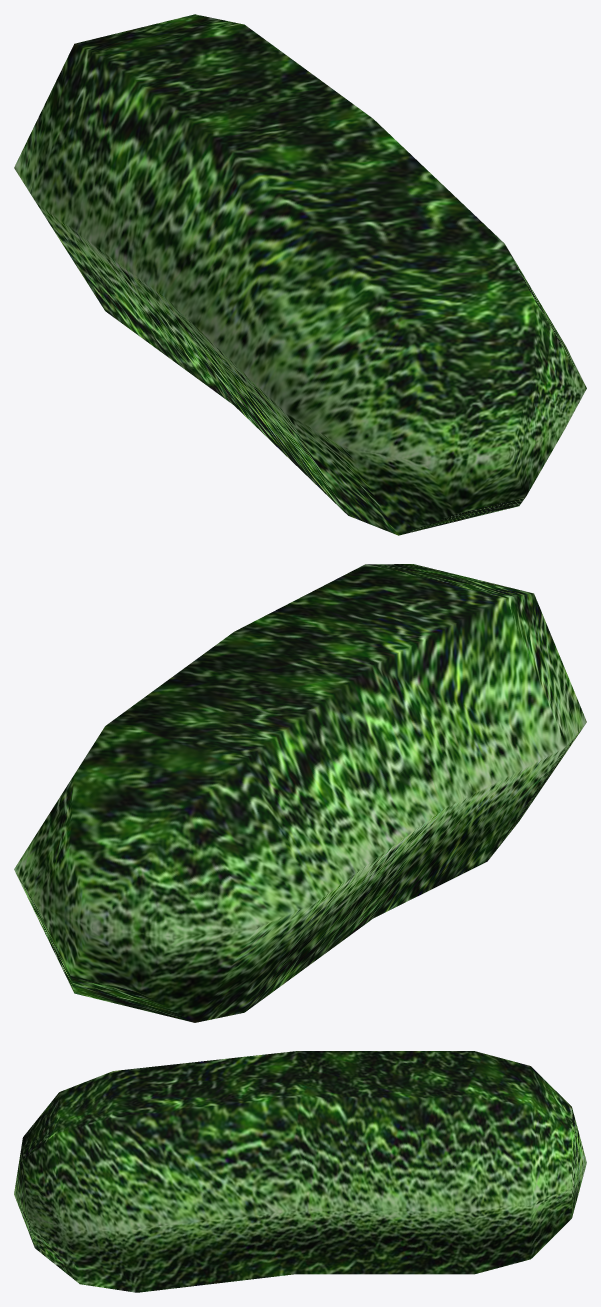
Rendered from bacteria.fbx.
The picture shows the model from 3 angles, top to bottom: view 1: azimuth 30°, elevation 25°; view 2: azimuth 150°, elevation 25°; view 3: azimuth 270°, elevation 25°; orthographic projection. The views are drawn at different scales.
Parts seen in each view (by area): view 1: bacteria1; view 2: bacteria1; view 3: bacteria1.
Part boxes in pixels (x1,y1,x2,y2): bacteria1: [14, 14, 586, 535]; bacteria1: [14, 564, 586, 1022]; bacteria1: [14, 1051, 586, 1292].
Bounding box in the file's own units: 2 × 1.92 × 5.12.
